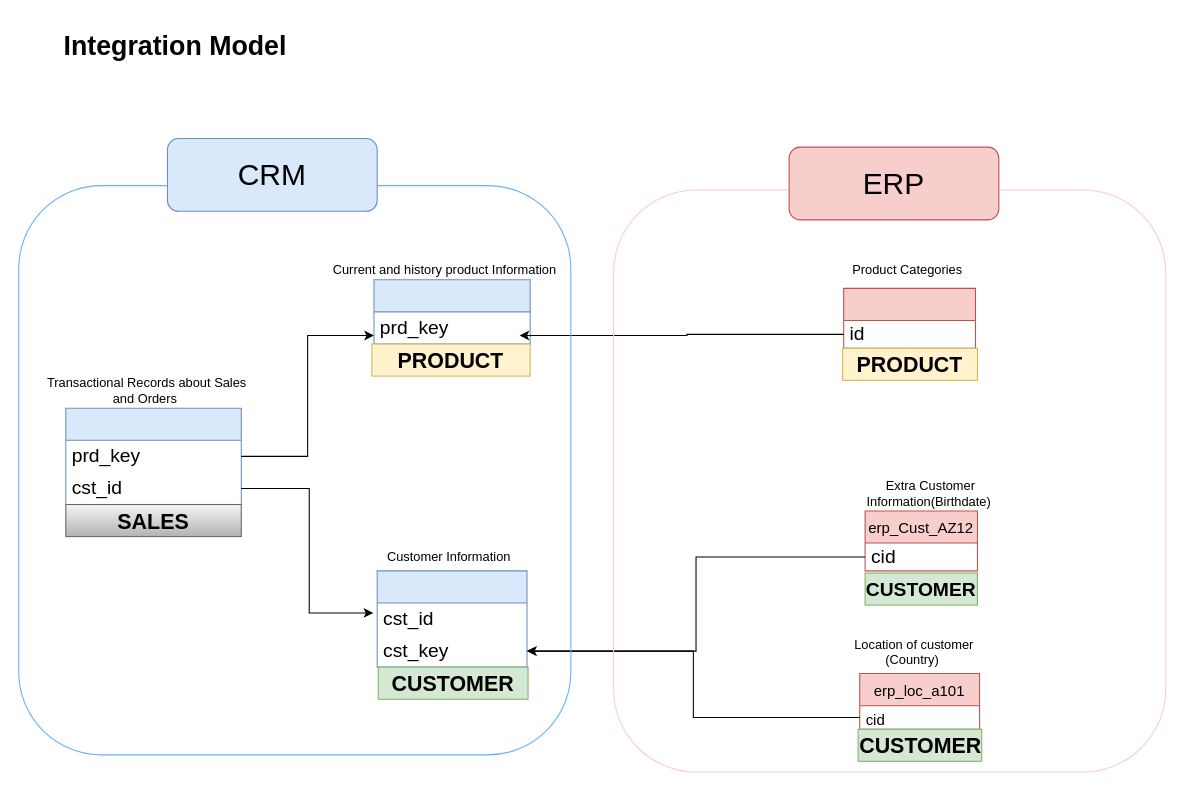
The diagram is 1184 pixels wide and 791 high, and some of its shapes have lost their labels. The box of each missing label's shape, as (x1, y1, x2, y2) in pixels:
crm_cust_info: (376, 570, 527, 667)
crm_prd_info: (373, 279, 530, 344)
crm_Sales_details: (65, 407, 241, 505)
erp_PX_CAT_g1v2: (843, 287, 976, 348)
